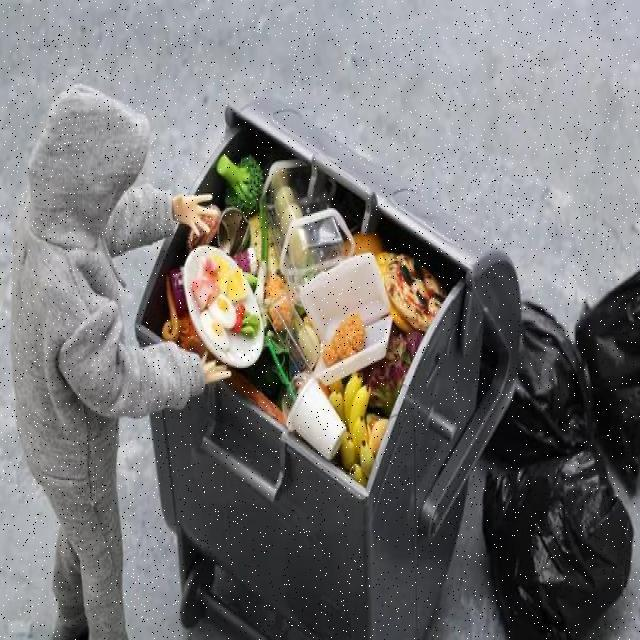Disposable: (299, 253, 392, 383), (184, 246, 262, 367), (288, 377, 346, 459), (242, 285, 260, 314)
Garbage: (138, 125, 460, 483)
Metal: (218, 206, 249, 257)
Plastic: (266, 161, 336, 254), (288, 231, 315, 268)
Plastic_Container: (280, 210, 354, 288)
contaminated_waste: (272, 207, 355, 295), (282, 375, 346, 461)
